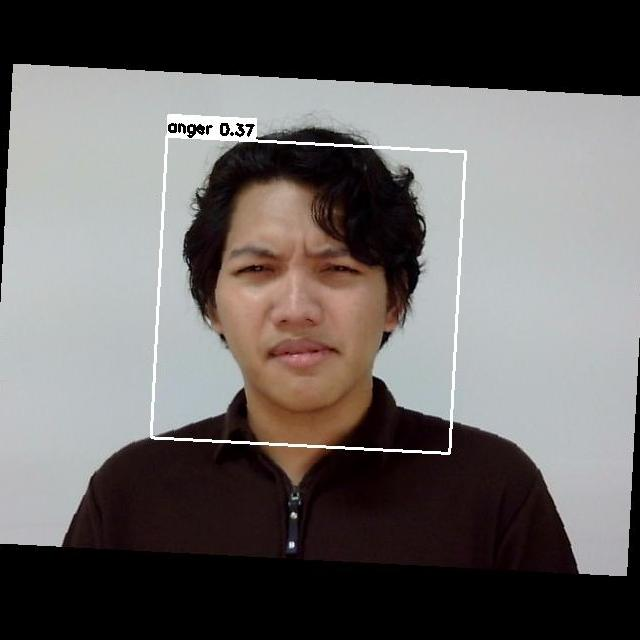Disgust: (205, 213, 403, 405)
